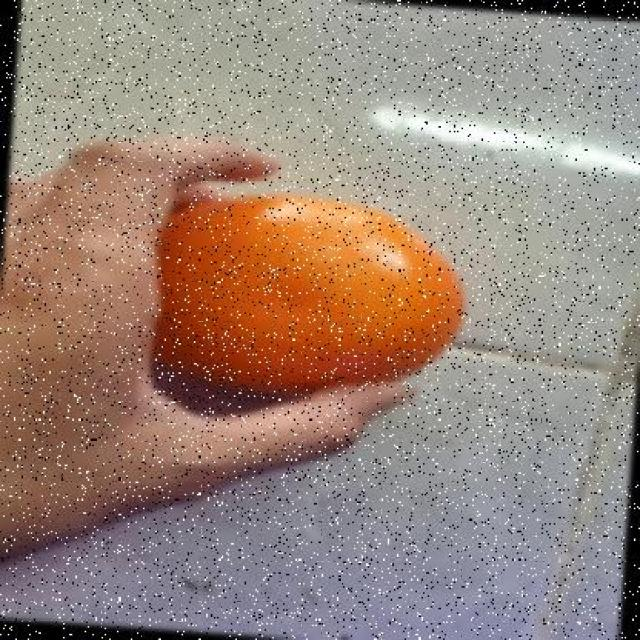Orange: (151, 183, 466, 397)
